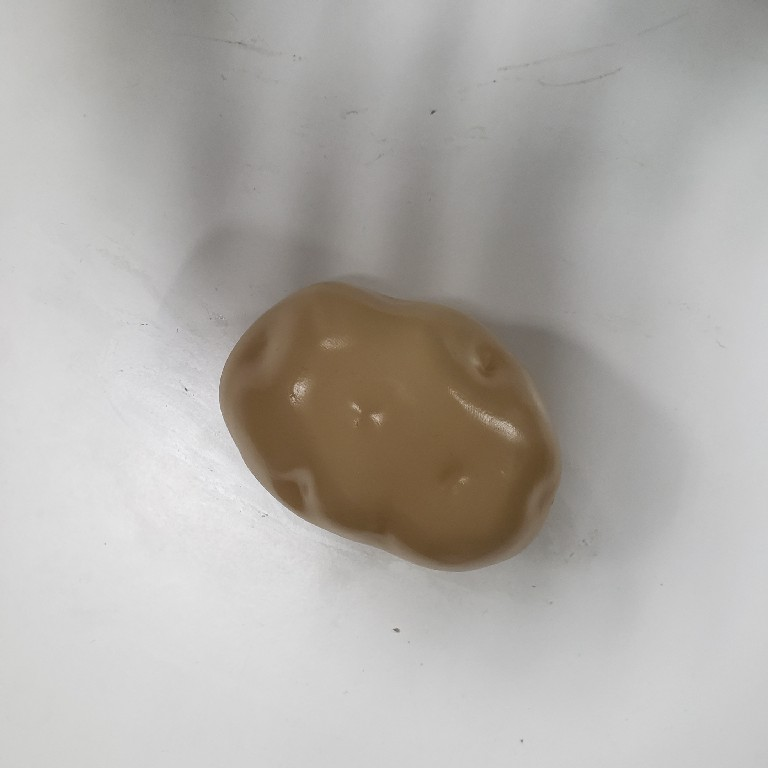fruit_potato: (213, 277, 566, 579)
